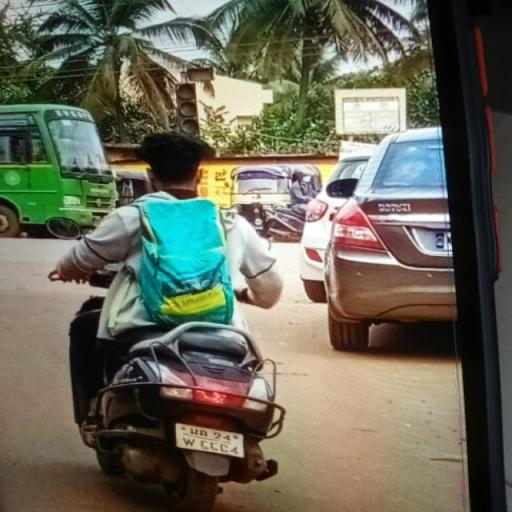bike: (44, 125, 302, 475)
numberplate: (173, 422, 252, 458)
withouthelmet: (145, 134, 204, 192)
